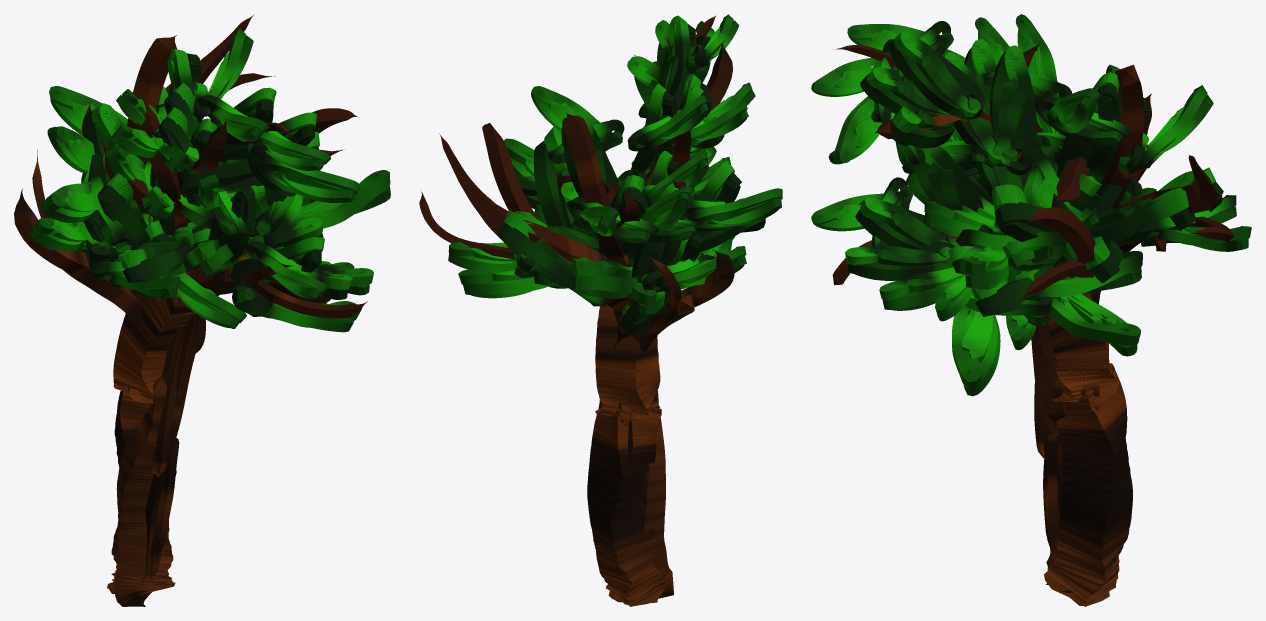
Rendered from Treetest.fbx.
3 renders of one model, left to right at view 1: azimuth 30°, elevation 25°; view 2: azimuth 150°, elevation 25°; view 3: azimuth 270°, elevation 25°, orthographic. The views are drawn at different scales.
Visible parts, largest first — view 1: Paint; view 2: Paint; view 3: Paint.
Part boxes in pixels (x1=…): Paint: x1=14, y1=14, x2=390, y2=606; Paint: x1=419, y1=14, x2=782, y2=606; Paint: x1=811, y1=14, x2=1251, y2=606.
Size of the model in its own units: 1.66 by 2.74 by 1.86.
